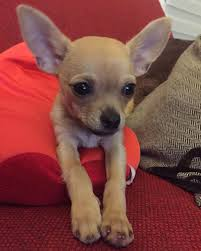chihuahua: (9, 1, 183, 250)
